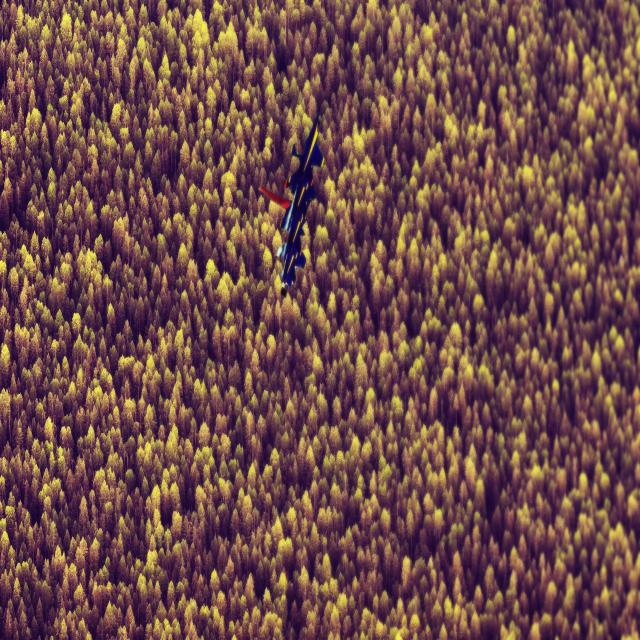airplane: (258, 113, 324, 298)
